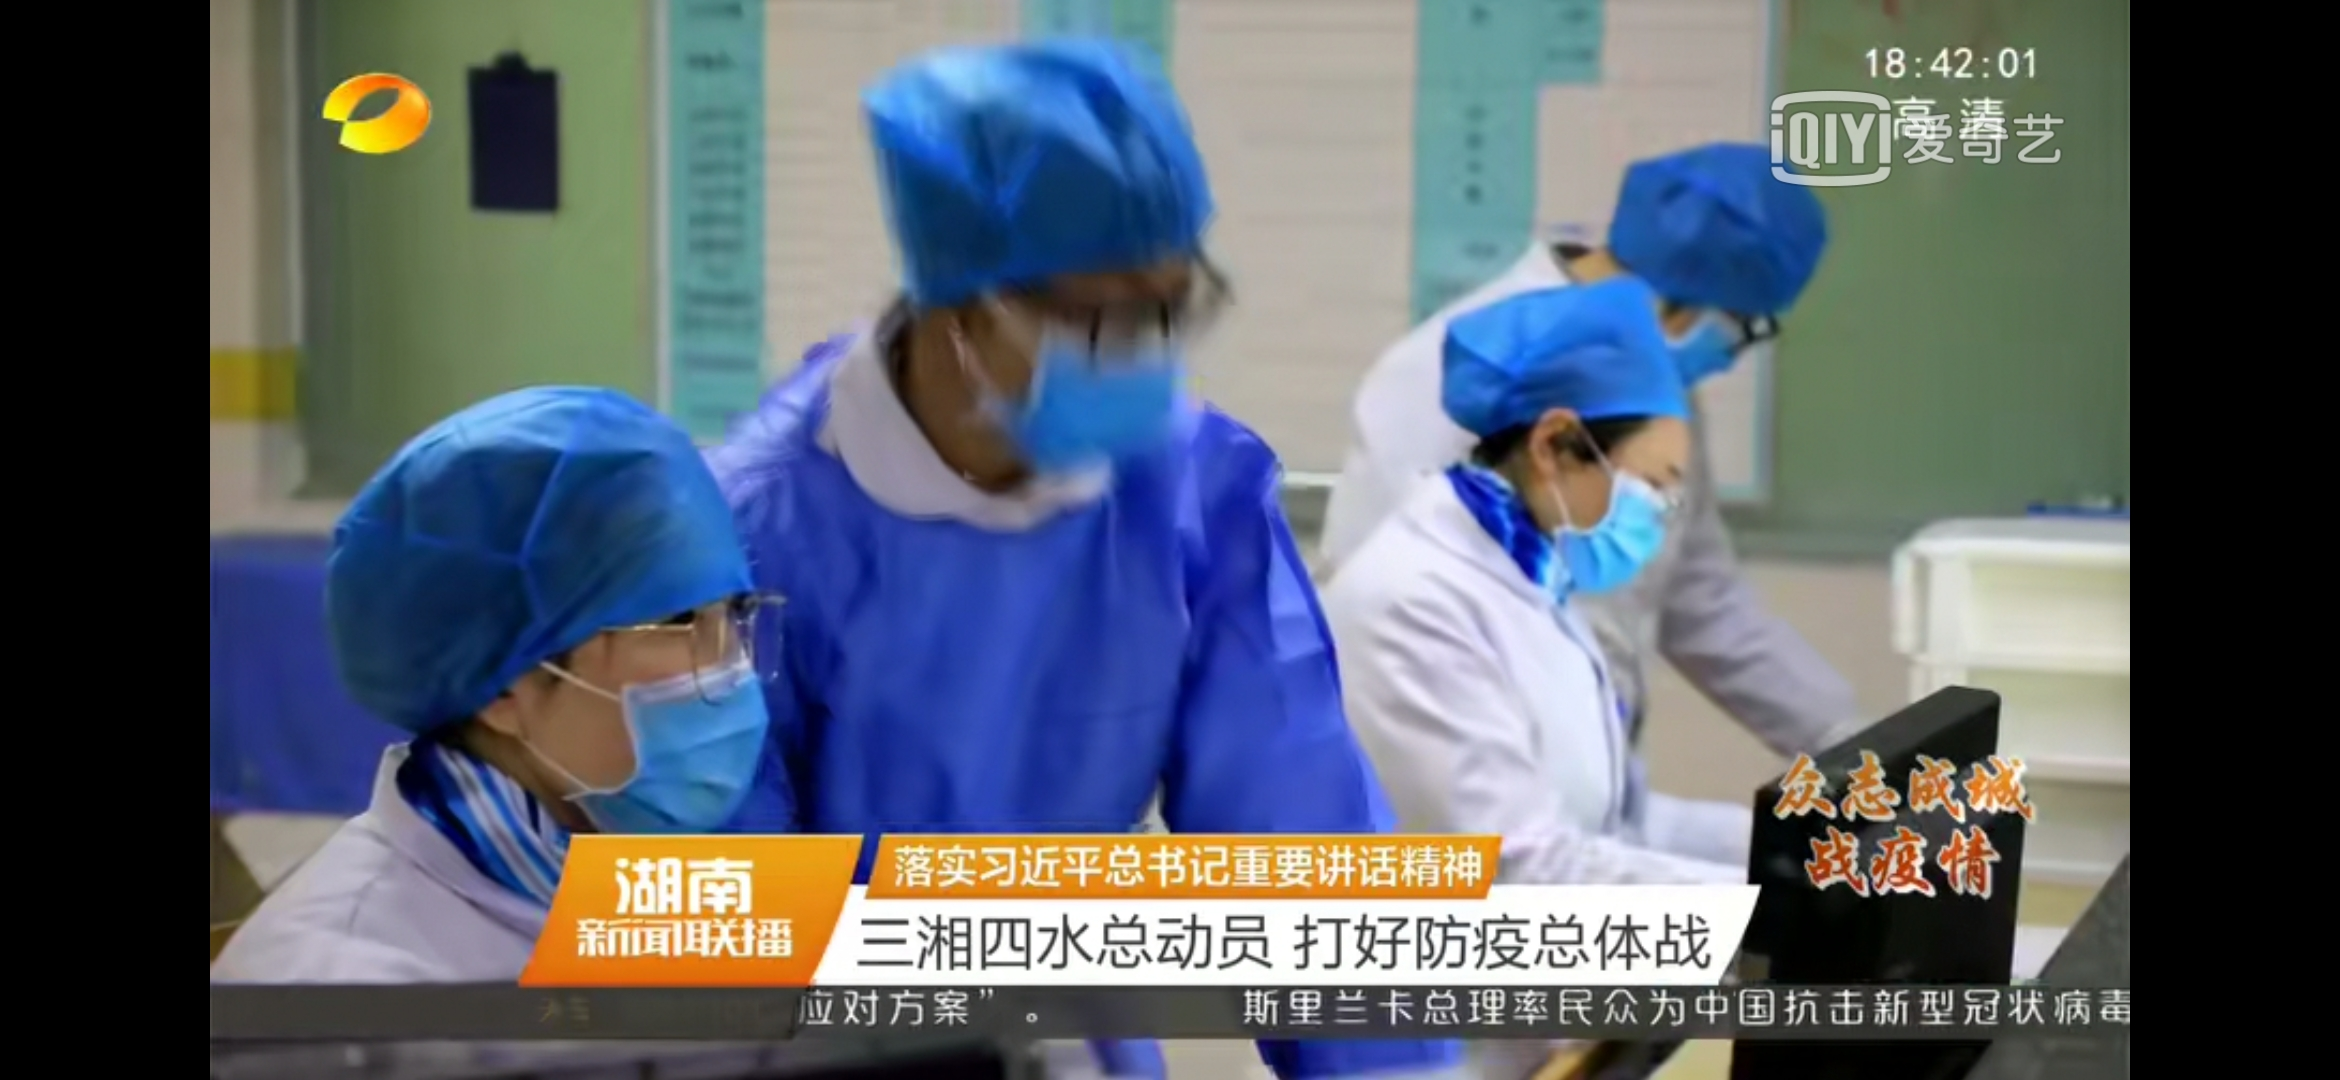correctlyWear: (472, 594, 789, 838), (943, 218, 1243, 467), (1527, 398, 1703, 591), (1661, 271, 1788, 392)
